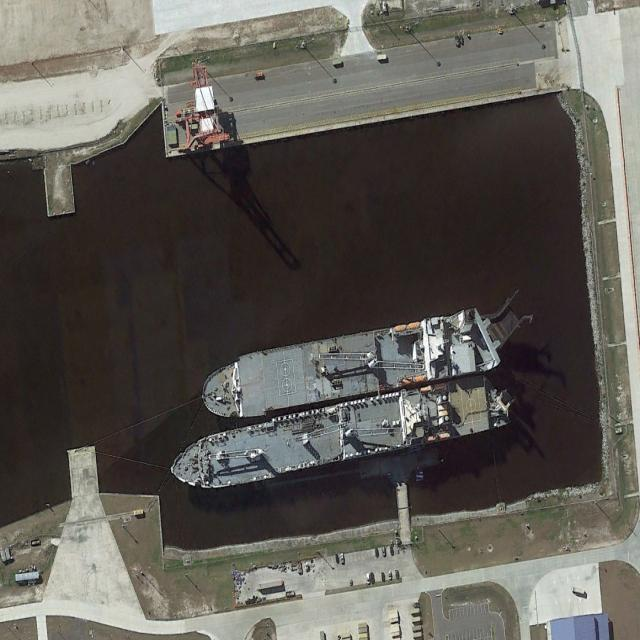Cargo: (168, 367, 516, 497), (199, 303, 525, 421)
